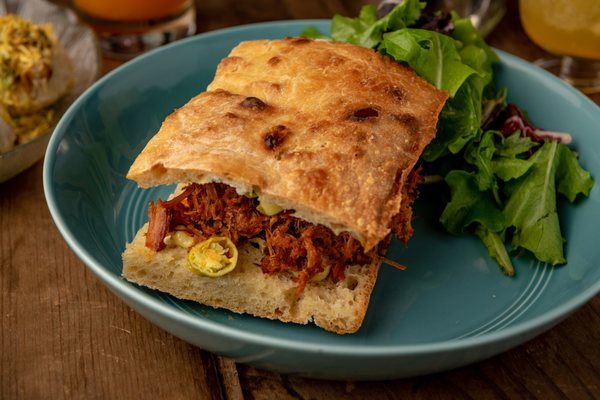soup: (116, 36, 449, 333)
sushi: (0, 0, 103, 183)
